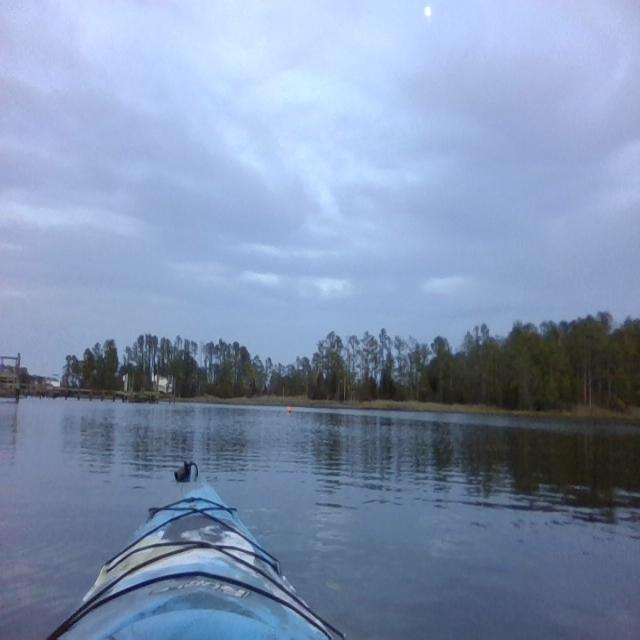Buoy: (287, 404, 293, 418)
